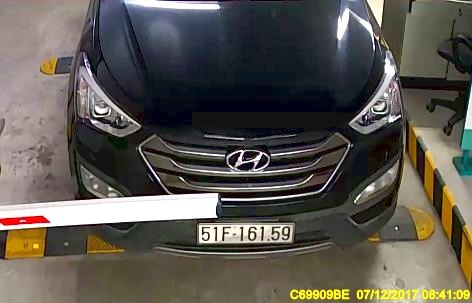plate: (191, 223, 298, 248)
